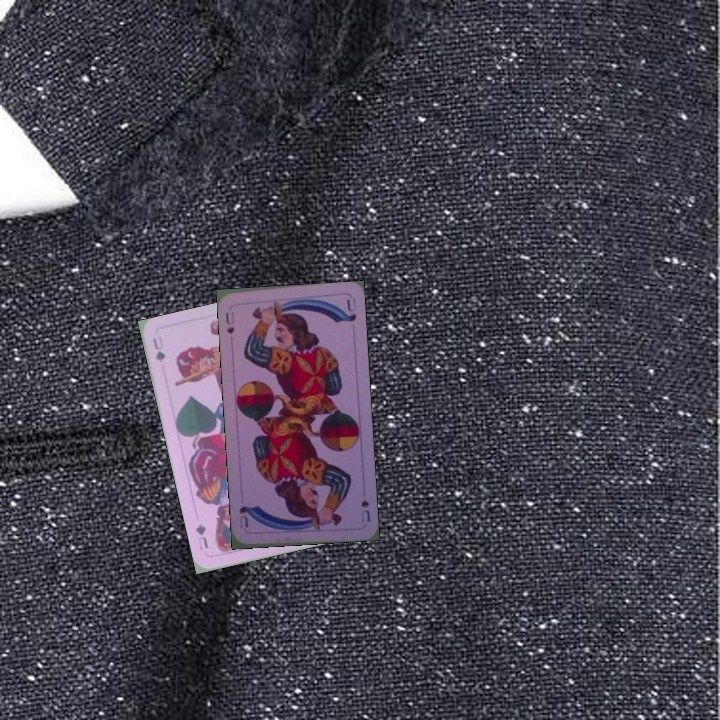GU: (149, 333, 168, 366)
SU: (357, 496, 373, 525), (222, 308, 237, 336)
